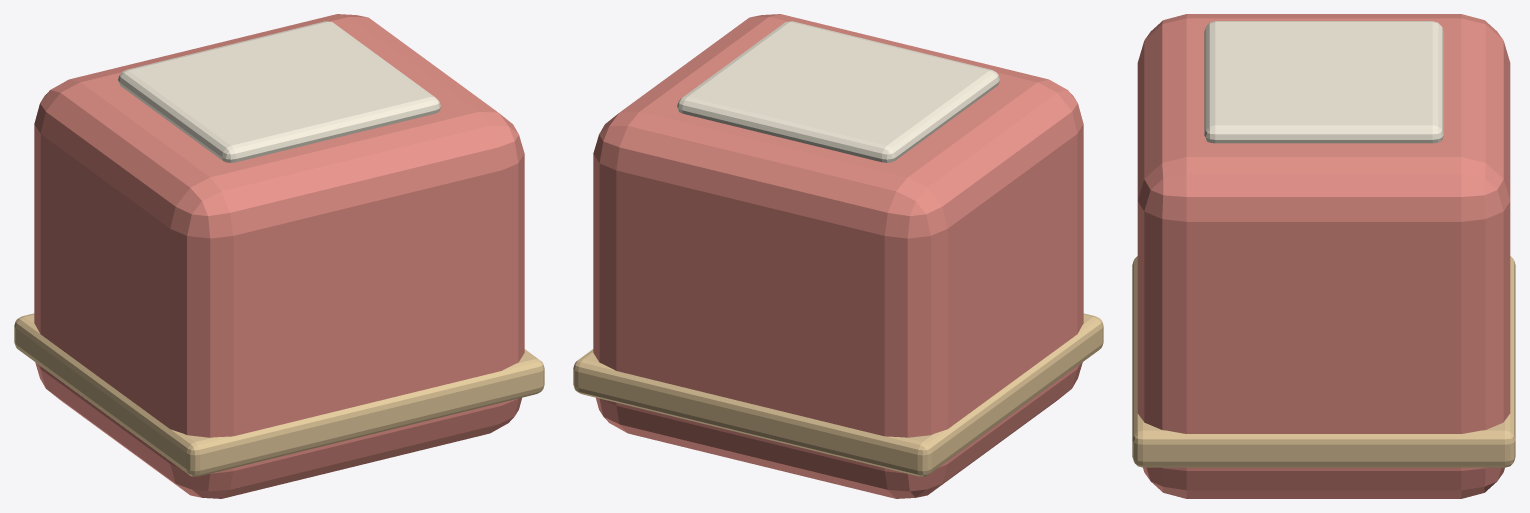
File: cargo_red.glb
3 renders of one model, left to right at view 1: azimuth 30°, elevation 25°; view 2: azimuth 150°, elevation 25°; view 3: azimuth 270°, elevation 25°, orthographic. The views are drawn at different scales.
Visible parts, largest first — view 1: ASSET_CARGO_RED_CrateBody, ASSET_CARGO_RED_TopPlate, ASSET_CARGO_RED_LowerBand; view 2: ASSET_CARGO_RED_CrateBody, ASSET_CARGO_RED_TopPlate, ASSET_CARGO_RED_LowerBand; view 3: ASSET_CARGO_RED_CrateBody, ASSET_CARGO_RED_TopPlate, ASSET_CARGO_RED_LowerBand.
Part boxes in pixels (x1,y1,x2,y2): ASSET_CARGO_RED_CrateBody: (34, 14, 524, 498); ASSET_CARGO_RED_TopPlate: (118, 21, 440, 162); ASSET_CARGO_RED_LowerBand: (14, 313, 544, 476); ASSET_CARGO_RED_CrateBody: (593, 14, 1083, 498); ASSET_CARGO_RED_TopPlate: (677, 21, 999, 162); ASSET_CARGO_RED_LowerBand: (573, 313, 1103, 476); ASSET_CARGO_RED_CrateBody: (1137, 14, 1510, 498); ASSET_CARGO_RED_TopPlate: (1204, 21, 1443, 143); ASSET_CARGO_RED_LowerBand: (1132, 256, 1515, 467).
Size of the model in its own units: 0.492 by 0.4375 by 0.432.
